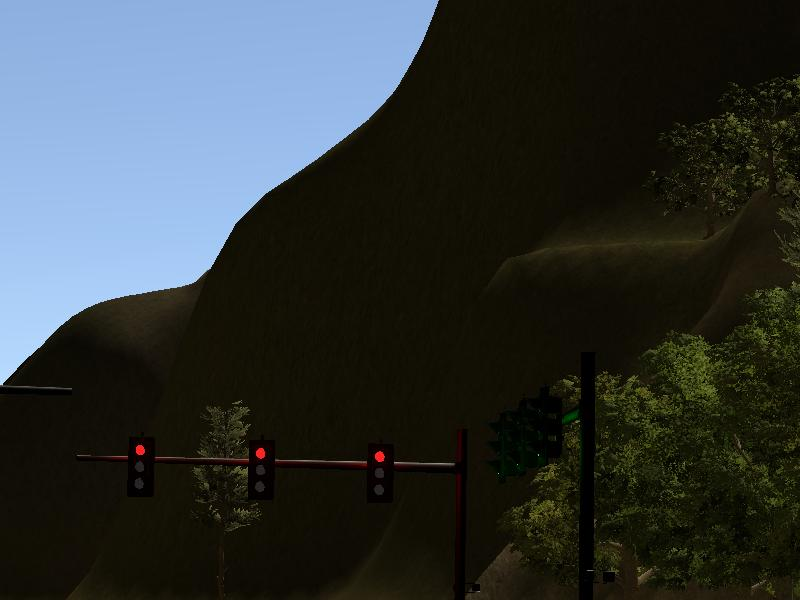Red: (366, 443, 393, 504), (250, 439, 275, 500), (128, 437, 153, 496)
